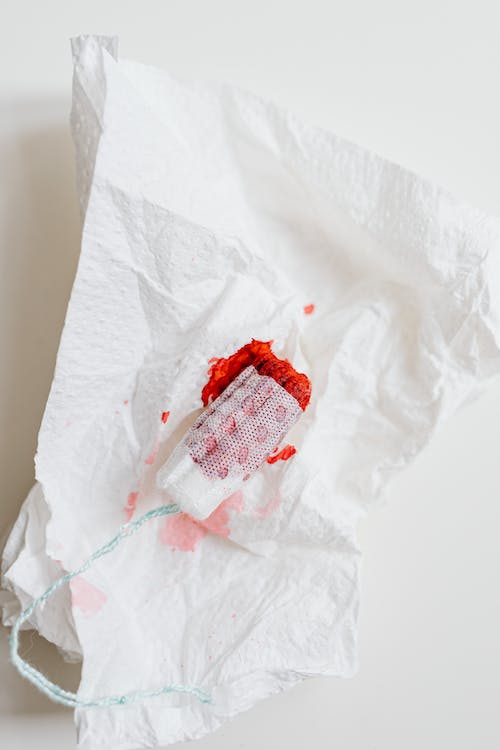blood: (65, 299, 319, 624)
